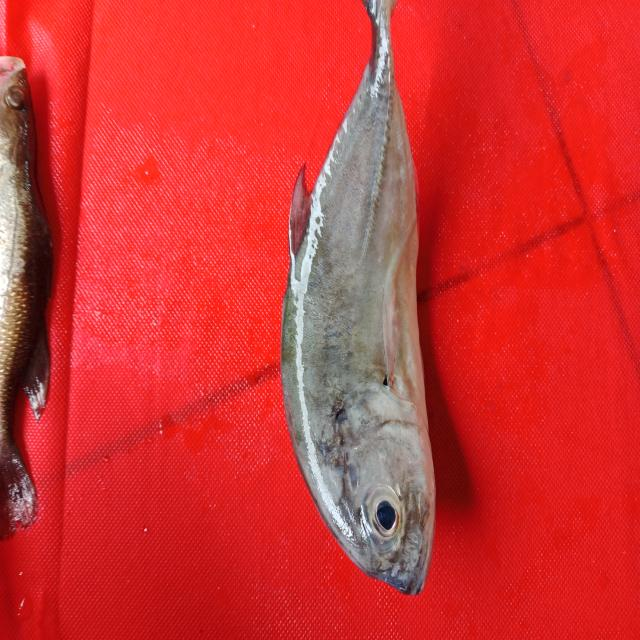ikan: (267, 11, 466, 598), (5, 46, 73, 532)
